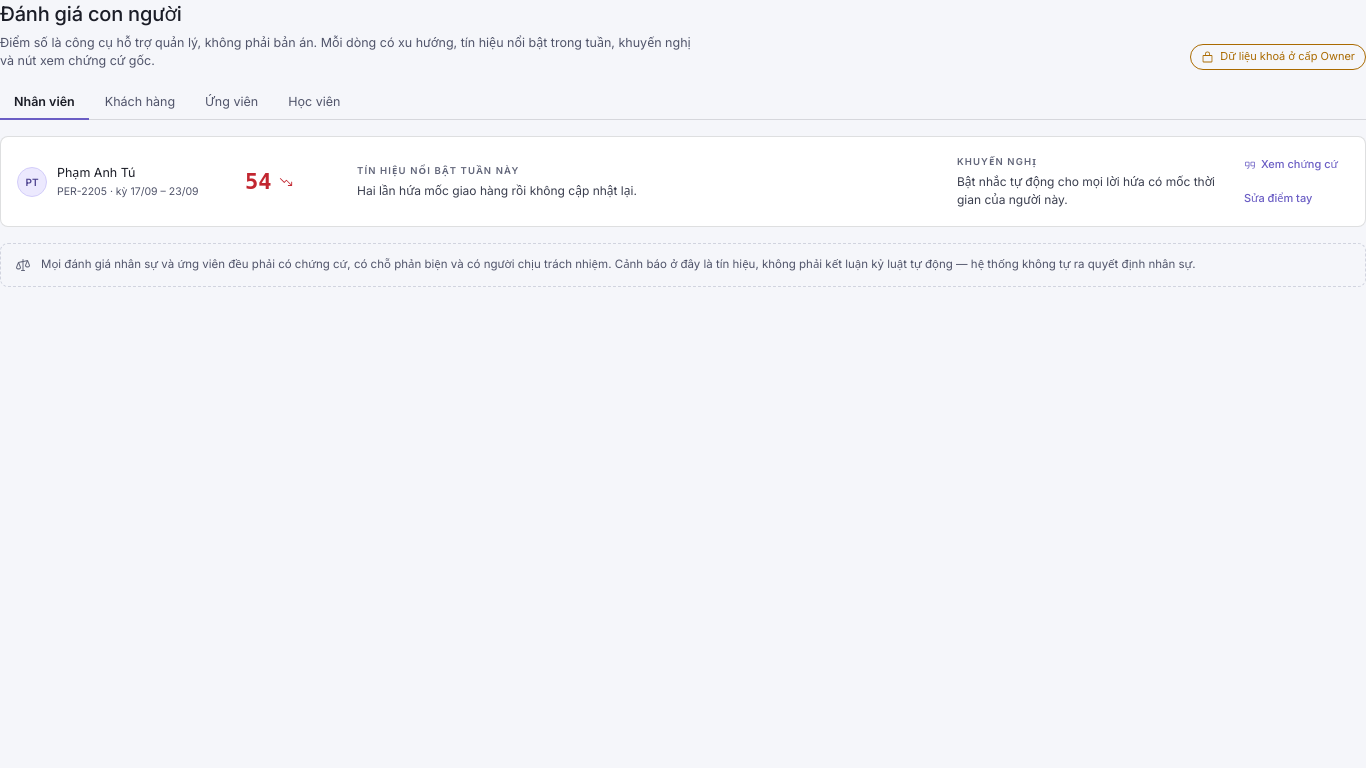
Test: Đánh giá con người — Q4 (docs/PLAN.md) › Owner (nhánh full): thấy điểm/tín hiệu/khuyến nghị, sửa điểm tay giữ lịch sử
The width and height of the screenshot is (1366, 768).
Expected: the text "Phạm Anh Tú" is shown, x1=57 y1=165 x2=135 y2=180
Expected: the text "54" is shown, x1=245 y1=171 x2=272 y2=193
Click the button "Sửa điểm tay" at {"x": 1278, "y": 199}, box x1=1233 y1=185 x2=1323 y2=212
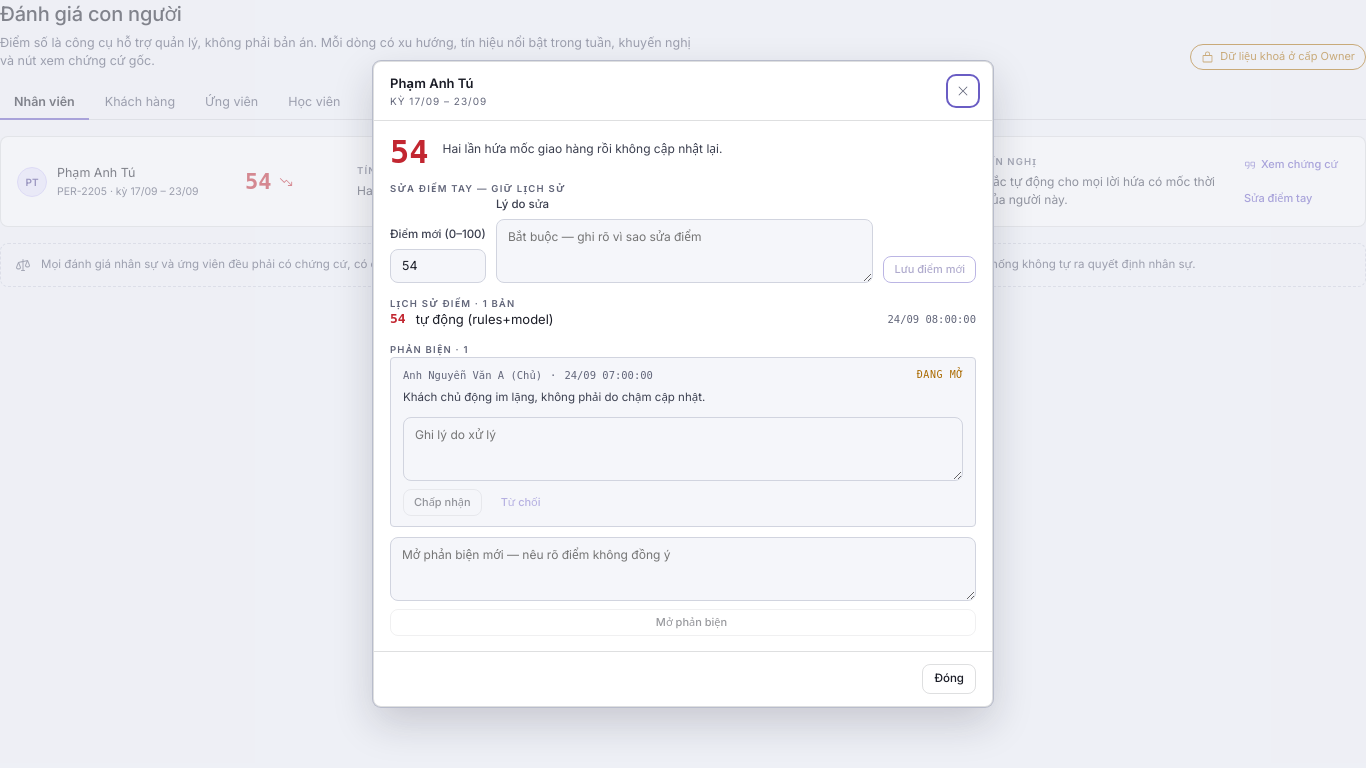
Expected: the dialog is shown, x1=373 y1=61 x2=993 y2=707
Expected: the text "tự động (rules+model)" is shown, x1=416 y1=312 x2=554 y2=328
Replace the text in the number field labelled "Điểm mới (0–100)" with "70" at {"x": 438, "y": 266}, box x1=390 y1=249 x2=486 y2=283
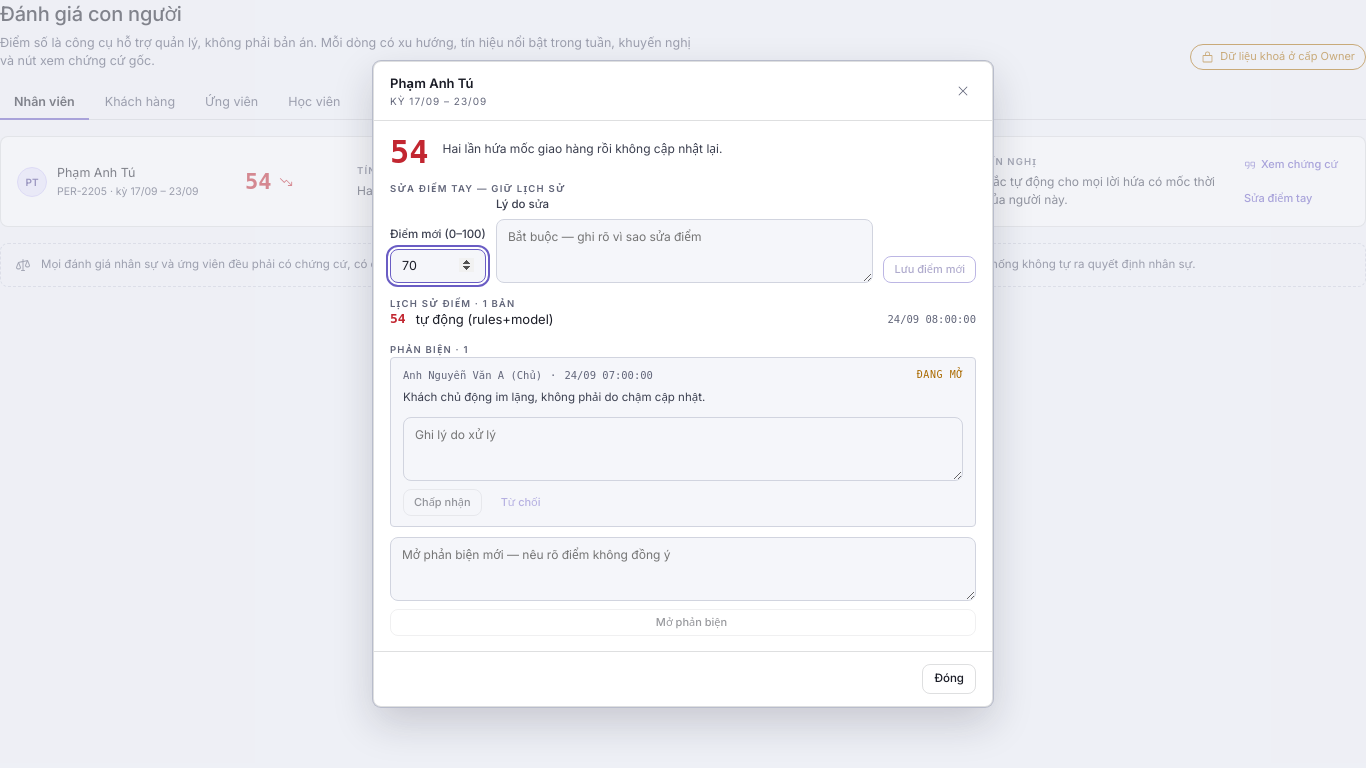
Type "Xem lại chứng cứ, khách chủ động im lặng." into the text box with placeholder "Bắt buộc — ghi rõ vì sao sửa điểm" at {"x": 685, "y": 251}, box x1=496 y1=219 x2=874 y2=283
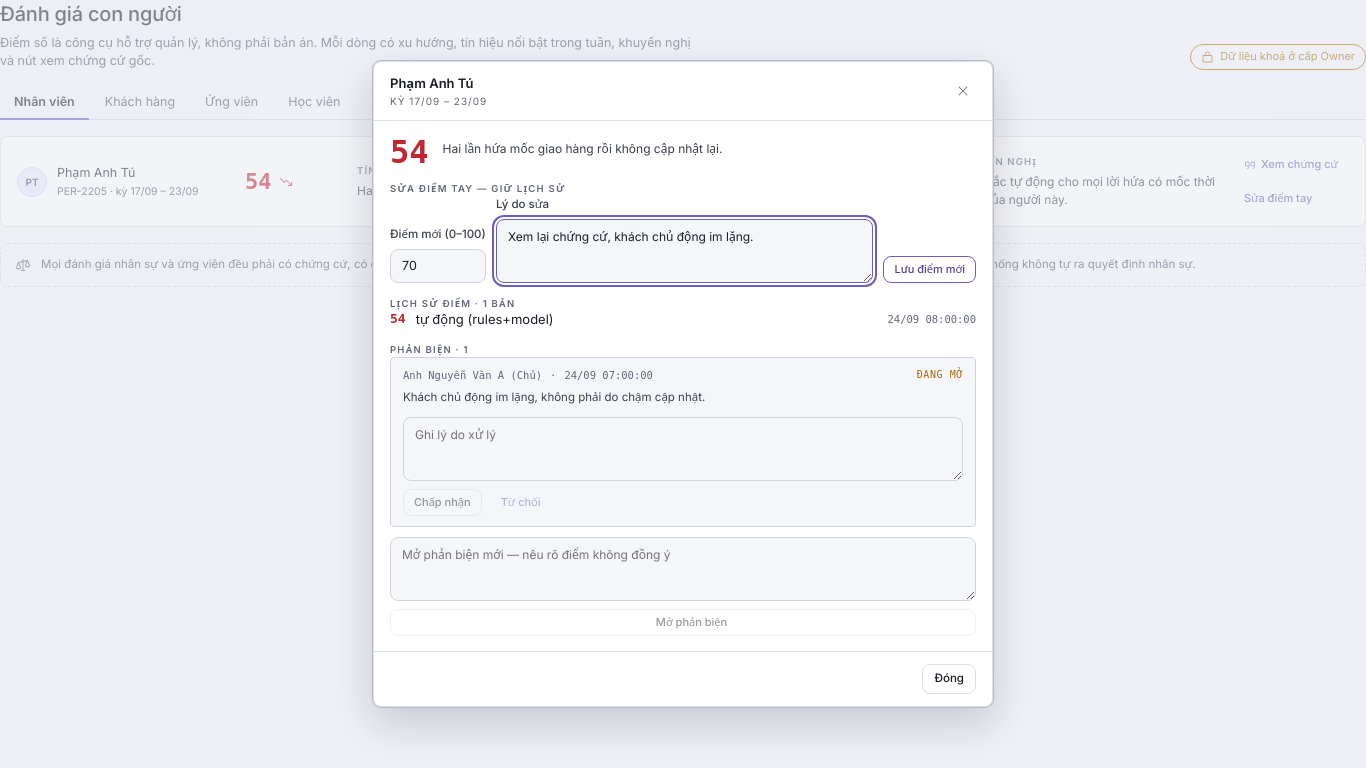
Click the button "Lưu điểm mới" at {"x": 930, "y": 269}, box x1=884 y1=256 x2=976 y2=283
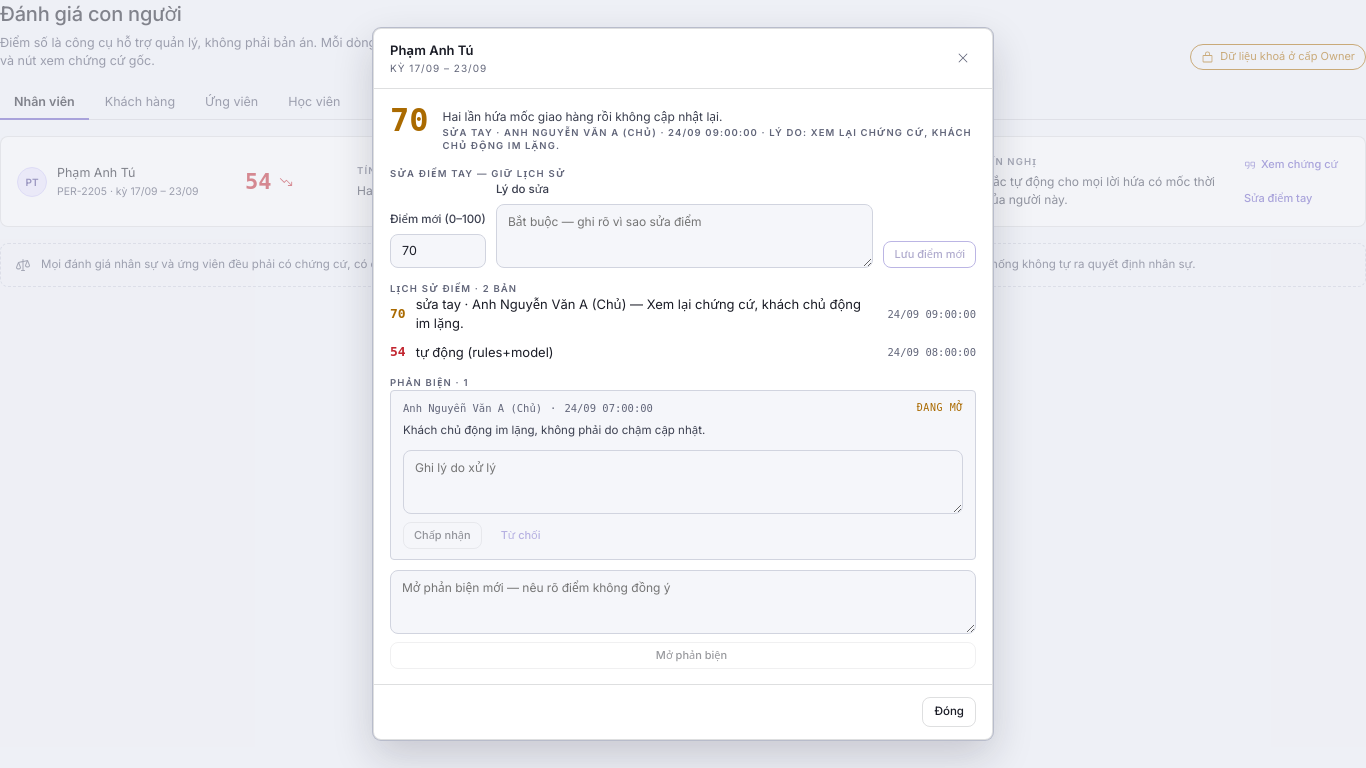
Expected: the text "70" in the row of "· lý do:" is shown, x1=390 y1=101 x2=428 y2=139
Expected: the text "sửa tay · Anh Nguyễn Văn A (Chủ)" is shown, x1=442 y1=126 x2=976 y2=153
